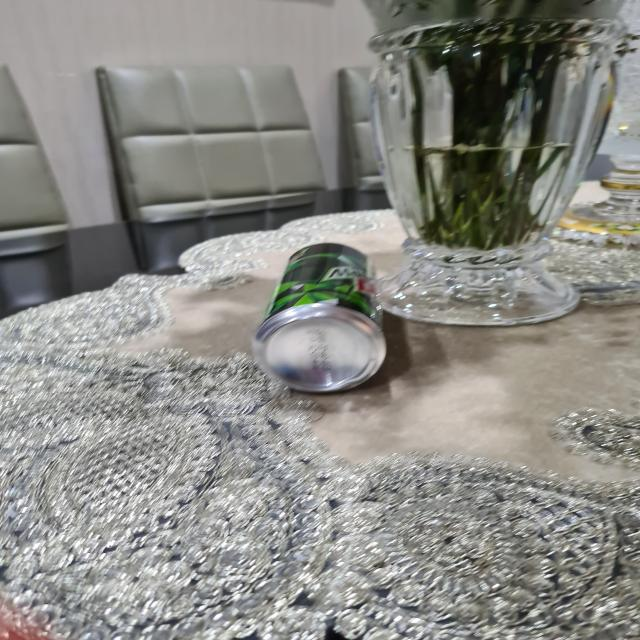non-organic waste: (246, 240, 396, 399)
